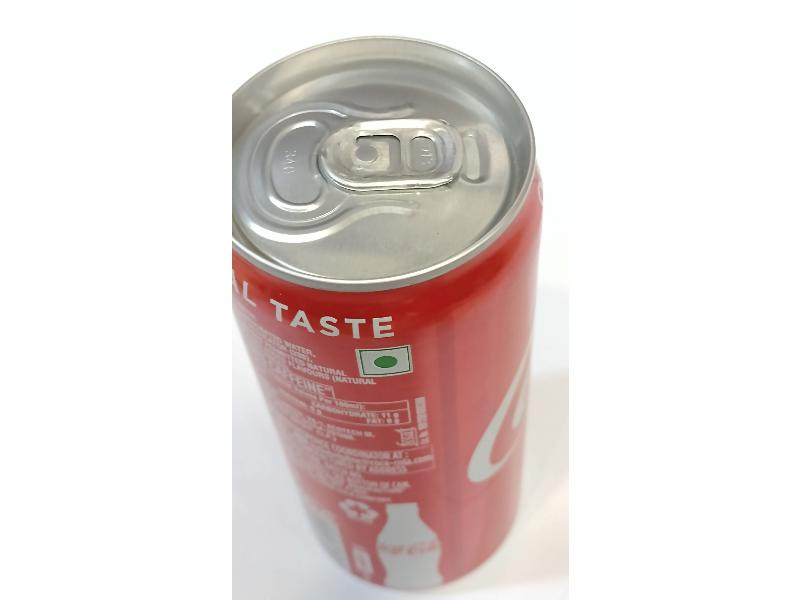can: (235, 32, 551, 588)
